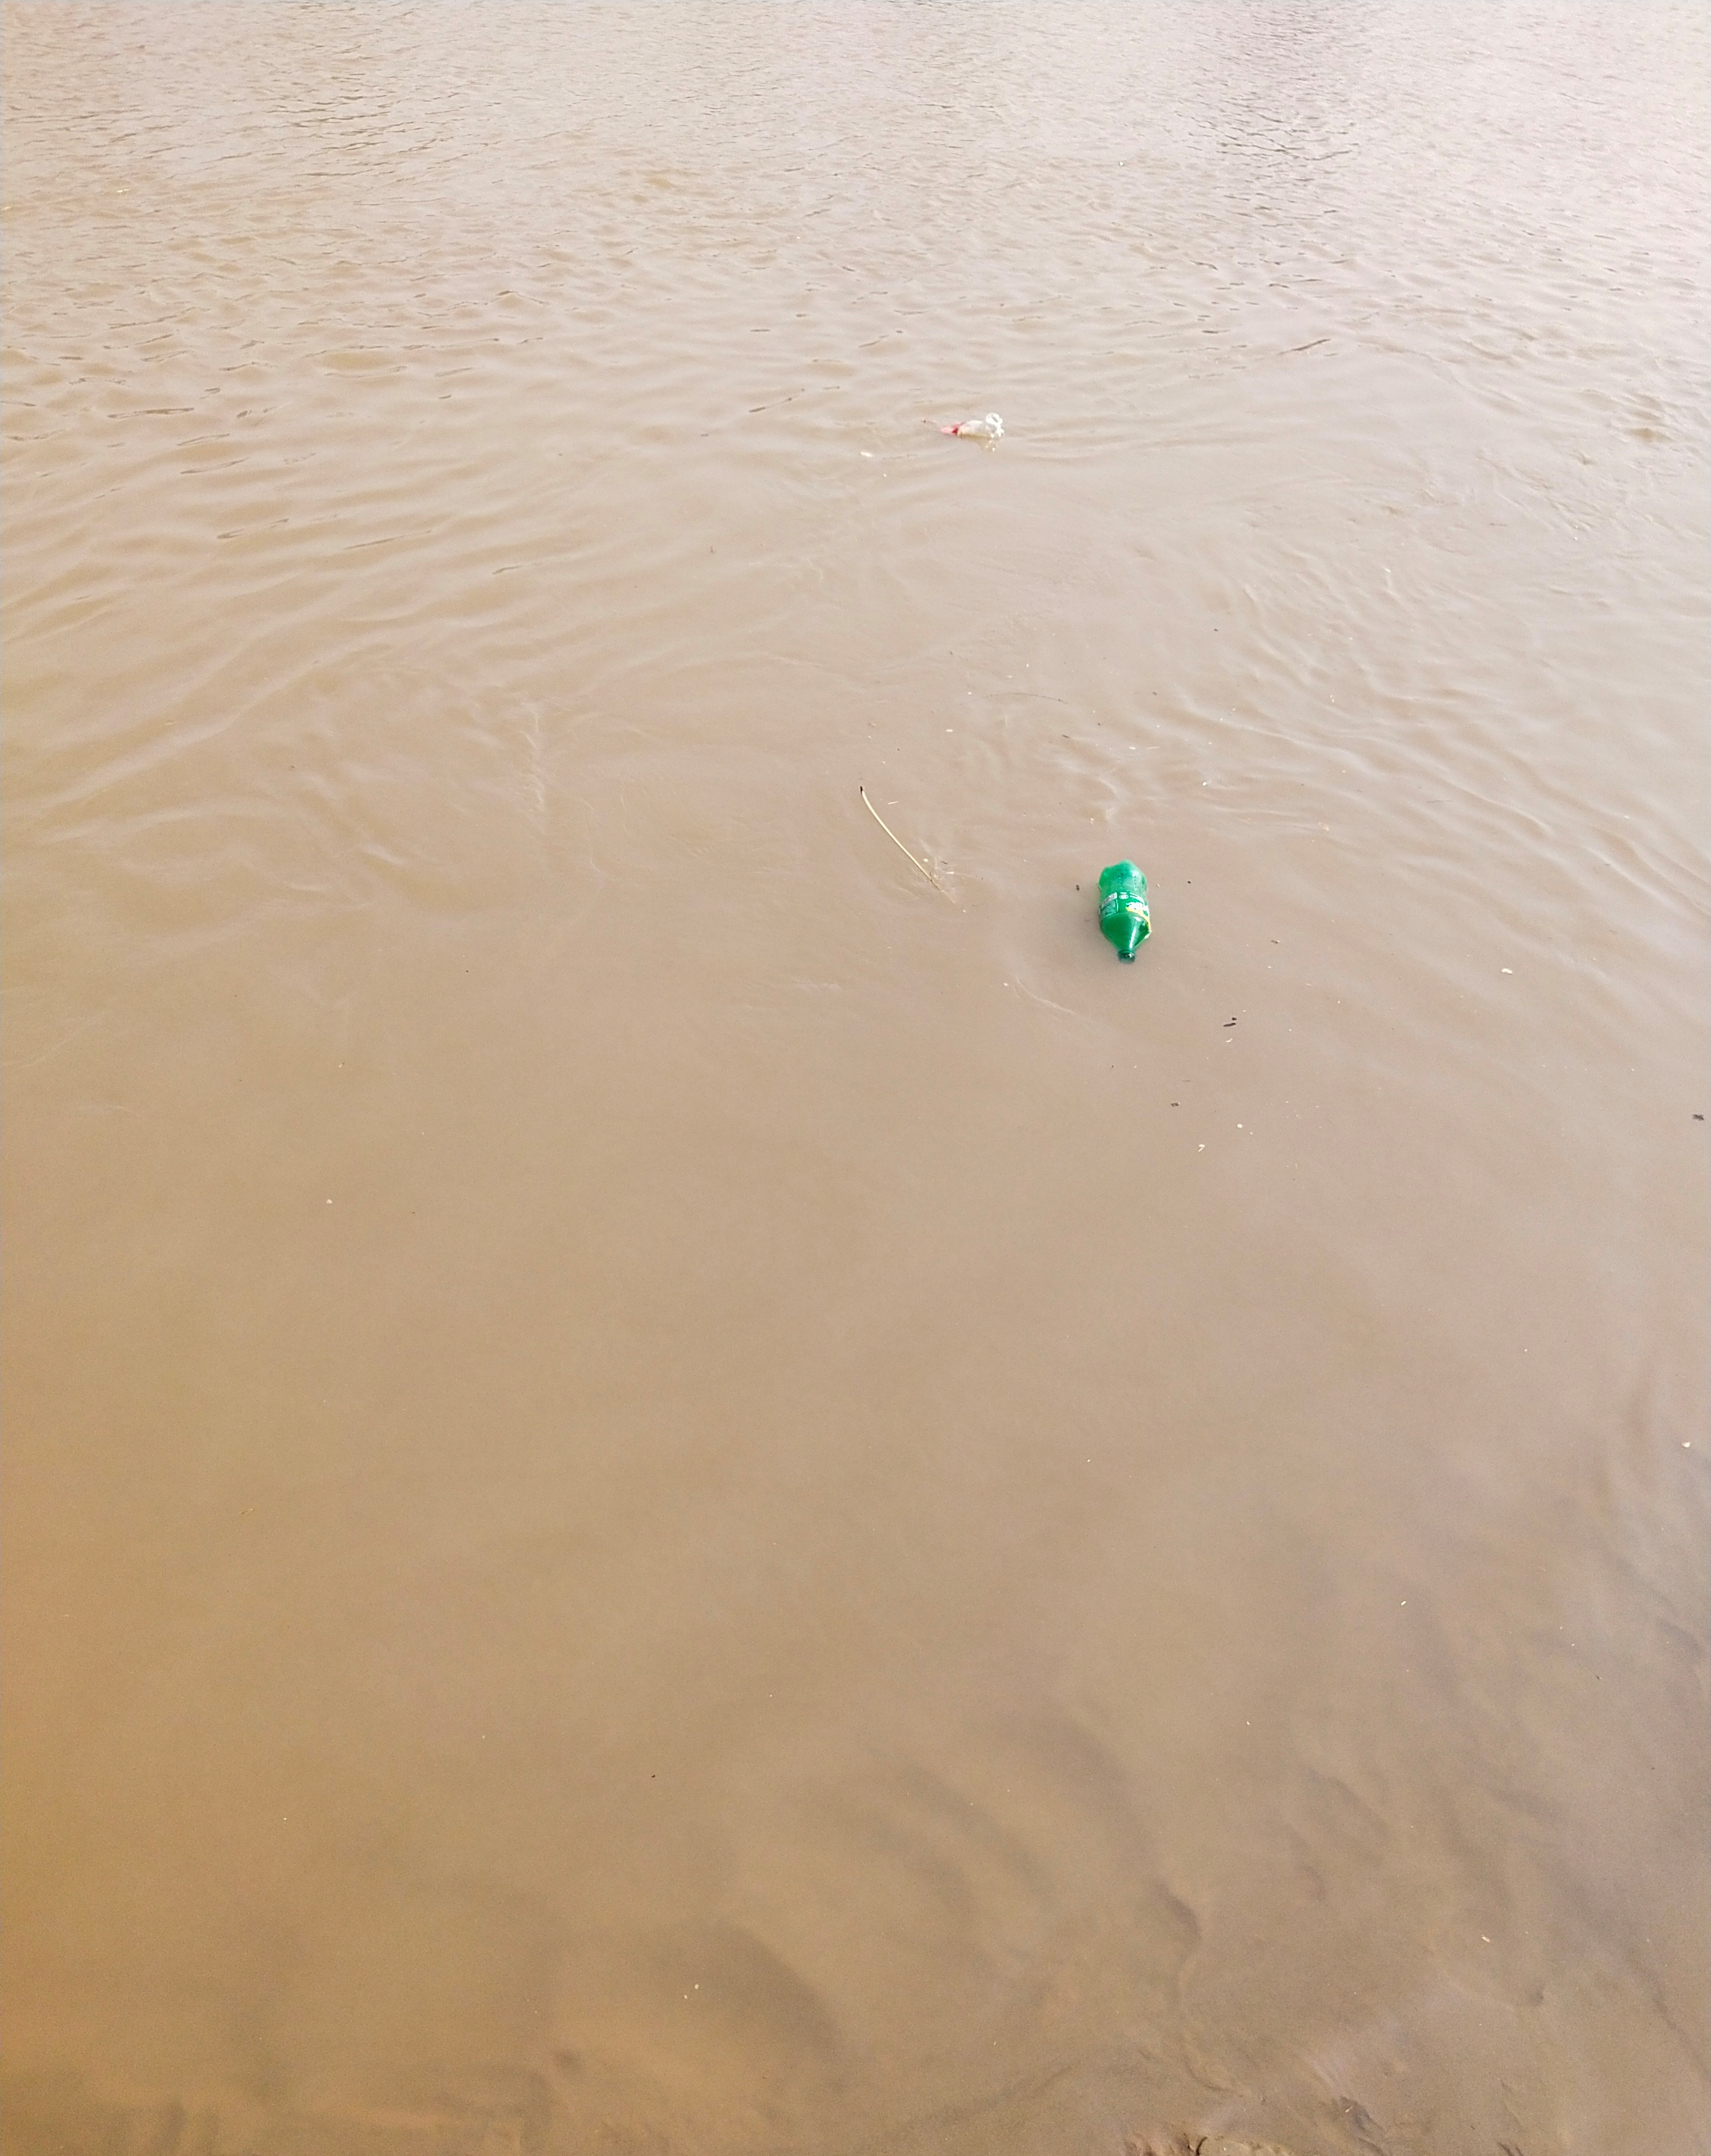Plastic Bottle: (1099, 859, 1149, 962), (943, 413, 1004, 439)
